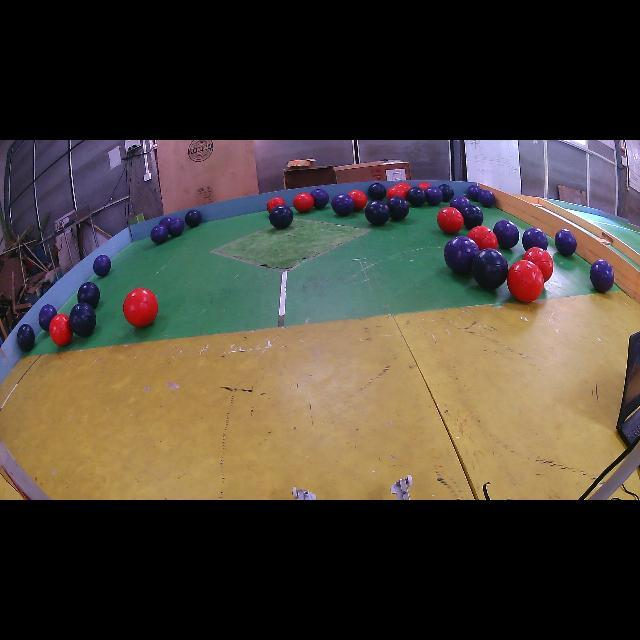B: (471, 249, 509, 289), (69, 302, 96, 336), (365, 200, 390, 226), (269, 205, 294, 229), (78, 282, 100, 309), (461, 204, 484, 228), (386, 196, 409, 220), (18, 324, 35, 351), (406, 186, 426, 206), (368, 182, 386, 200), (185, 210, 202, 228), (439, 184, 454, 202)
P: (444, 236, 479, 274), (590, 259, 615, 292), (492, 220, 519, 249), (522, 228, 548, 251), (555, 229, 576, 256), (331, 194, 355, 216), (39, 304, 58, 331), (92, 255, 111, 276), (310, 189, 329, 209), (150, 225, 169, 244), (425, 186, 442, 206), (168, 218, 185, 237), (151, 226, 168, 244), (479, 189, 495, 208), (450, 196, 470, 211), (468, 185, 481, 201), (160, 216, 171, 227)
R: (506, 260, 544, 302), (124, 288, 158, 328), (522, 248, 554, 281), (468, 225, 498, 250), (438, 206, 464, 234), (50, 314, 72, 346), (294, 192, 314, 212), (349, 190, 368, 211), (266, 198, 285, 212), (388, 186, 405, 199), (396, 182, 411, 194), (418, 182, 431, 190)
